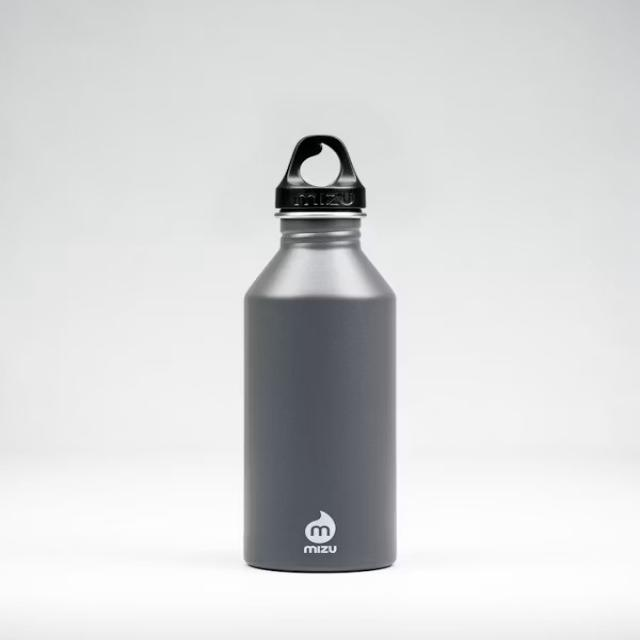Bottle: (245, 136, 395, 571)
